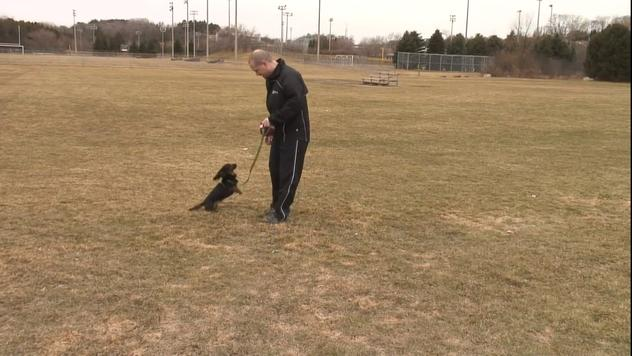down: (196, 164, 239, 210)
stay: (249, 44, 313, 216)
walk: (196, 164, 239, 210)
